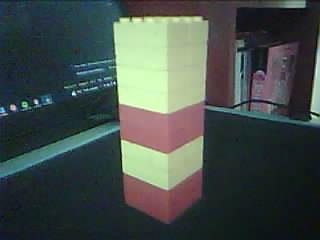lego: (112, 14, 208, 221)
